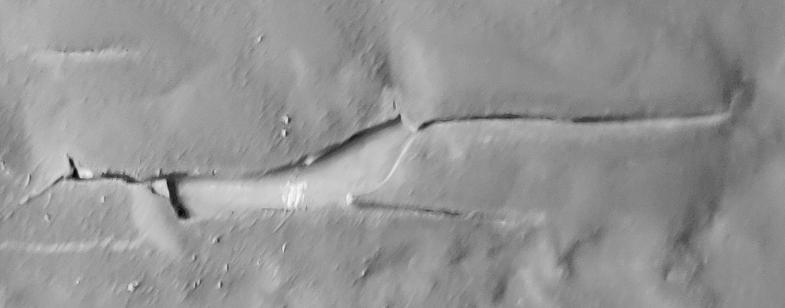crack: (0, 1, 785, 308)
